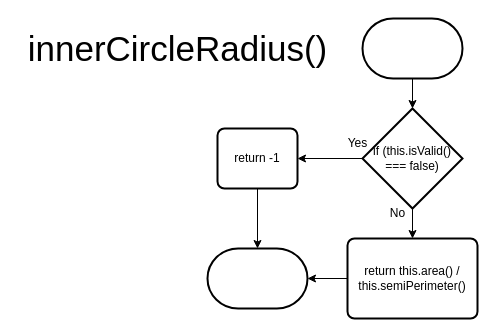
Image size: 495x336. Some labels were removed from this diagram. The centre of each missing label's shape, as x and y in pixels:
"Start" belongs at pixel 412 48.
"Stop" belongs at pixel 257 278.
